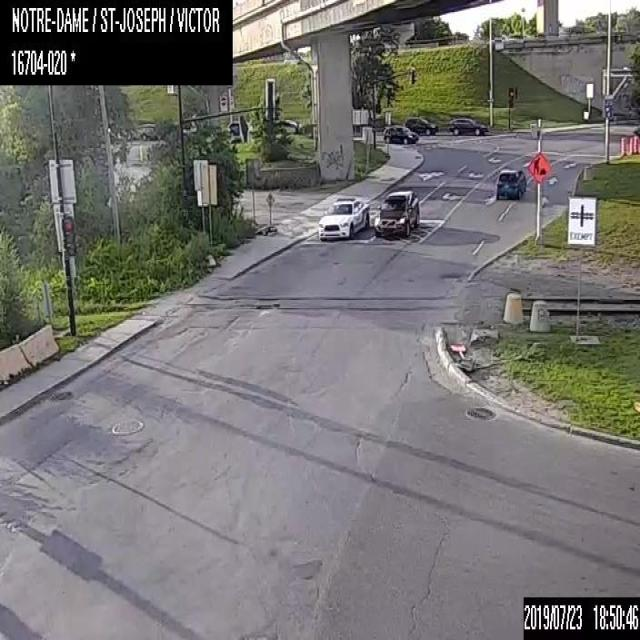construction: (526, 151, 550, 182), (620, 137, 625, 156), (633, 136, 637, 152), (629, 137, 632, 153)
vehicle: (317, 196, 369, 240), (375, 190, 419, 235), (494, 168, 526, 199), (448, 117, 488, 135), (382, 126, 418, 144), (403, 116, 438, 134), (127, 123, 162, 140), (225, 120, 252, 142), (276, 118, 301, 134)
